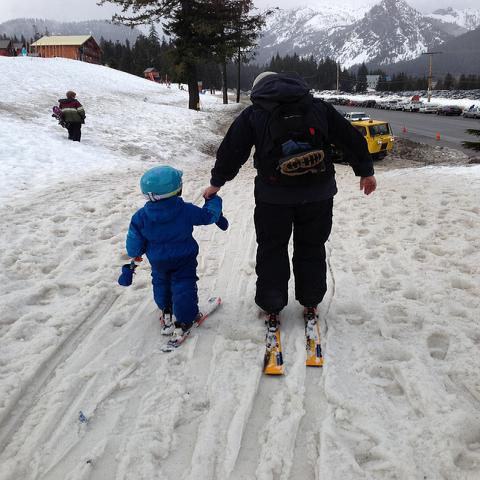car: (344, 111, 371, 123), (438, 105, 462, 116), (418, 104, 438, 114), (462, 108, 479, 119), (379, 101, 398, 109), (362, 100, 376, 108), (324, 98, 340, 105), (390, 103, 404, 110), (354, 100, 365, 106)
truck: (350, 118, 394, 159), (401, 100, 423, 111)
